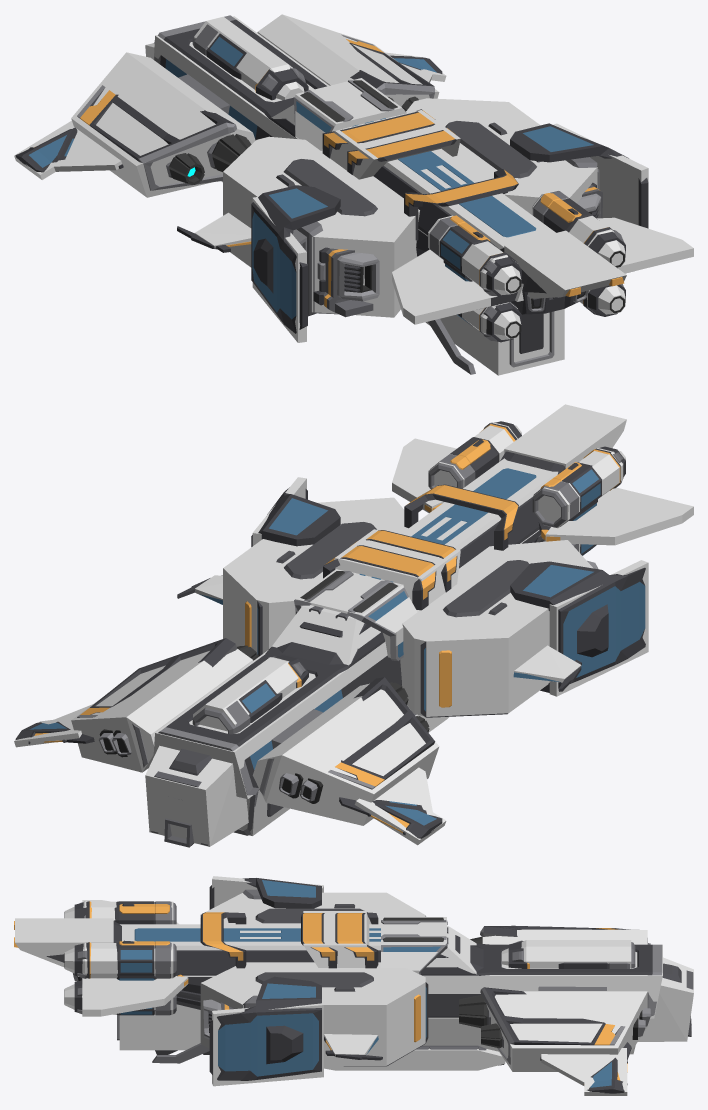
File: SM_Ship_Cruiser_01.fbx
3 renders of one model, top to bottom at view 1: azimuth 30°, elevation 25°; view 2: azimuth 150°, elevation 25°; view 3: azimuth 270°, elevation 25°, orthographic. The views are drawn at different scales.
Parts seen in each view (by area): view 1: SM_Ship_Cruiser_01_ConvexHulls, SM_Ship_Cruiser_01_LOD0; view 2: SM_Ship_Cruiser_01_ConvexHulls, SM_Ship_Cruiser_01_LOD0; view 3: SM_Ship_Cruiser_01_ConvexHulls, SM_Ship_Cruiser_01_LOD0.
Part boxes in pixels (x1,y1,x2,y2): SM_Ship_Cruiser_01_ConvexHulls: (14, 14, 693, 375); SM_Ship_Cruiser_01_LOD0: (15, 15, 648, 374); SM_Ship_Cruiser_01_ConvexHulls: (14, 404, 693, 846); SM_Ship_Cruiser_01_LOD0: (15, 421, 645, 847); SM_Ship_Cruiser_01_ConvexHulls: (15, 876, 693, 1095); SM_Ship_Cruiser_01_LOD0: (14, 878, 693, 1093).
Size of the model in its own units: 5227 by 2922 by 1094.
Materials: 1 (1 with a texture image).
